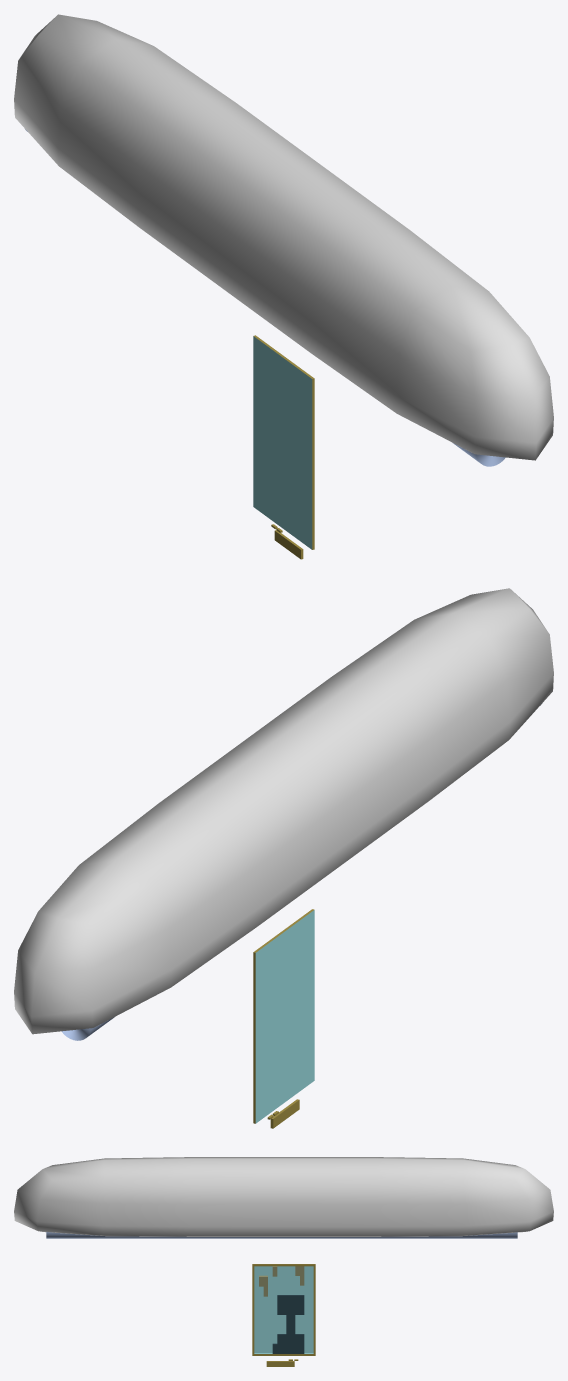
The model's file is light.fbx.
The picture shows the model from 3 angles, top to bottom: view 1: azimuth 30°, elevation 25°; view 2: azimuth 150°, elevation 25°; view 3: azimuth 270°, elevation 25°; orthographic projection. The views are drawn at different scales.
Visible parts, largest first — view 1: Cube, Cube.001; view 2: Cube, Cube.001; view 3: Cube, Cube.001, Cylinder.
Boxes of the visible parts, x1=… form: Cube: x1=14, y1=14, x2=553, y2=460; Cube.001: x1=253, y1=335, x2=314, y2=559; Cube: x1=14, y1=588, x2=553, y2=1034; Cube.001: x1=253, y1=909, x2=314, y2=1128; Cube: x1=14, y1=1157, x2=553, y2=1236; Cube.001: x1=252, y1=1264, x2=315, y2=1366; Cylinder: x1=46, y1=1232, x2=517, y2=1238.
Bounding box in the file's own units: 200 × 628 × 1483.
